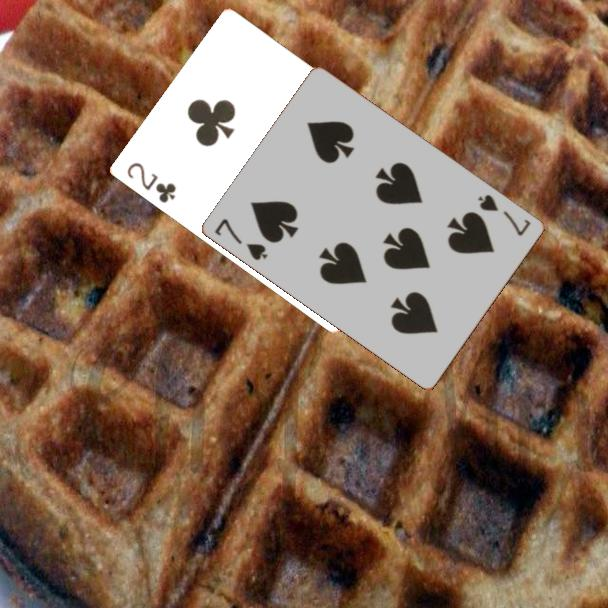c02: (124, 158, 180, 206)
s07: (211, 215, 271, 263), (475, 191, 534, 239)
